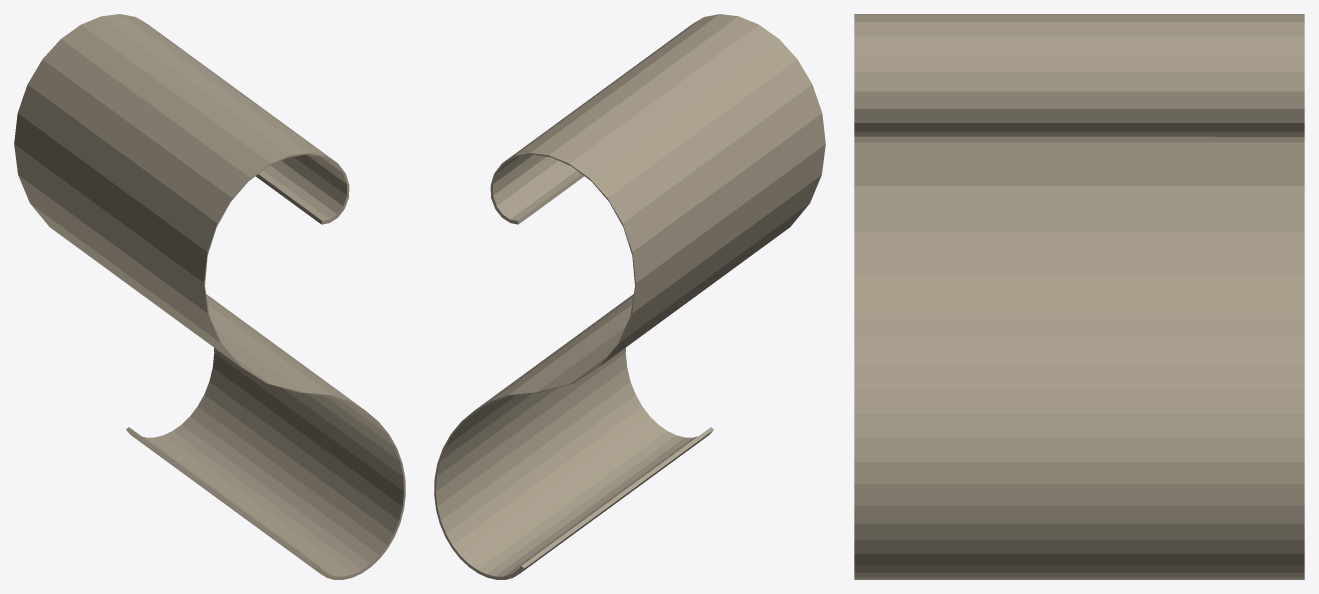
File: Extras.fbx
3 renders of one model, left to right at view 1: azimuth 30°, elevation 25°; view 2: azimuth 150°, elevation 25°; view 3: azimuth 270°, elevation 25°, orthographic. The views are drawn at different scales.
Parts seen in each view (by area): view 1: Cube; view 2: Cube; view 3: Cube.
Boxes of the visible parts, x1=… form: Cube: x1=14, y1=14, x2=405, y2=579; Cube: x1=434, y1=14, x2=825, y2=579; Cube: x1=854, y1=14, x2=1304, y2=579.
Bounding box in the file's own units: 123 × 254 × 200.
